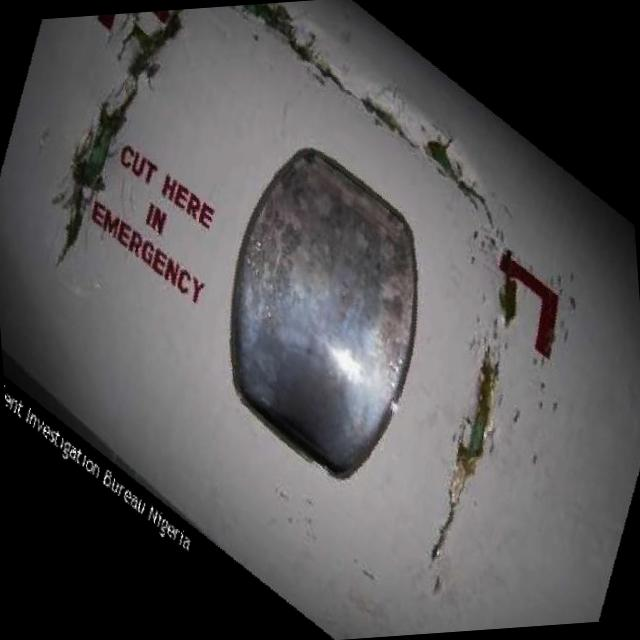crack: (245, 0, 496, 245), (35, 10, 198, 268), (417, 342, 517, 558)
